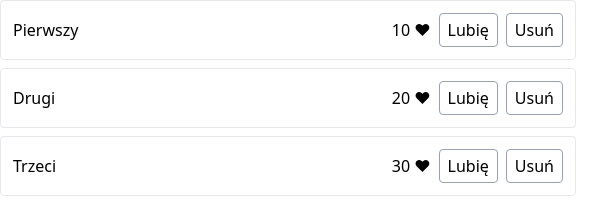
Test: PostList › removes the row BEFORE the server responds
This screenshot has width=593, height=213.
Expected: the text "Drugi" is shown, [13,86,55,110]
Click the button with aria-label "Usuń: Drugi".
click(534, 98)  # box [506,81,563,115]
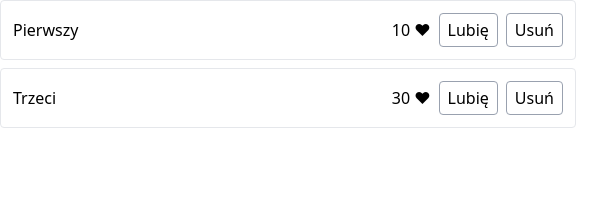
Result: the text "Drugi" is gone
